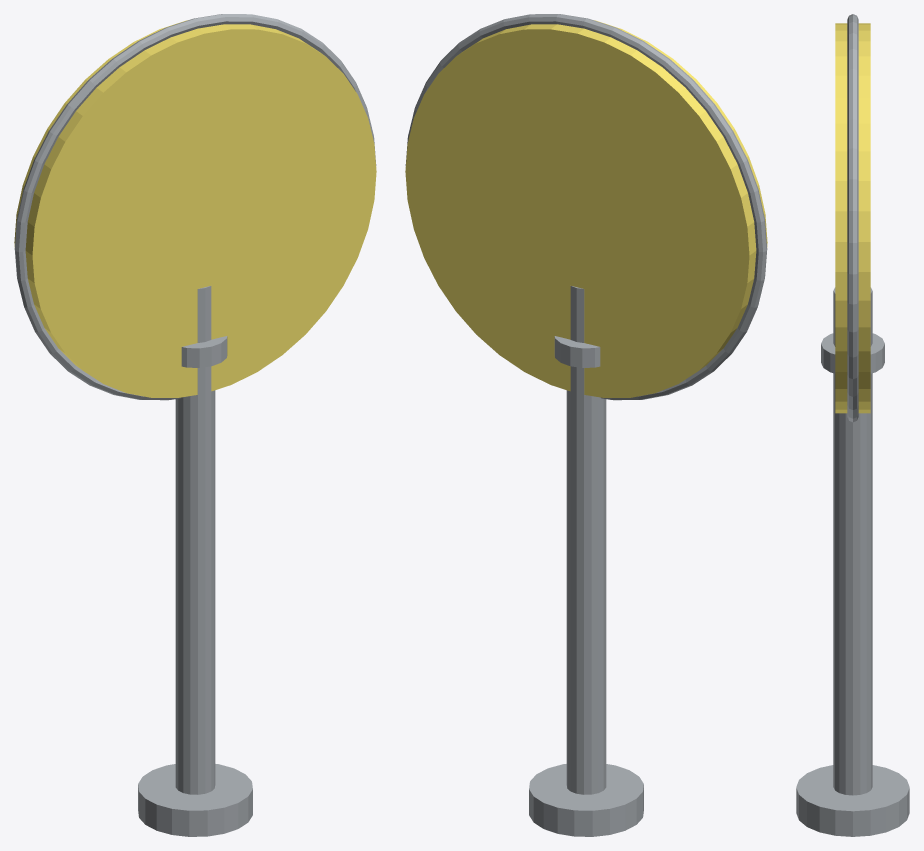
File: state-fair-pin-wifi-hotspot.glb
3 renders of one model, left to right at view 1: azimuth 30°, elevation 25°; view 2: azimuth 150°, elevation 25°; view 3: azimuth 270°, elevation 25°, orthographic.
Visible parts, largest first — view 1: SFPIN_SignDisc, SFPIN_Post, SFPIN_Rim, SFPIN_Base, SFPIN_Collar; view 2: SFPIN_SignDisc, SFPIN_Post, SFPIN_Rim, SFPIN_Base, SFPIN_Collar; view 3: SFPIN_Post, SFPIN_SignDisc, SFPIN_Base, SFPIN_Rim, SFPIN_Collar.
Boxes of the visible parts, bbox=[...] form: SFPIN_SignDisc: bbox=[14, 20, 376, 397]; SFPIN_Post: bbox=[175, 286, 215, 794]; SFPIN_Rim: bbox=[14, 14, 376, 400]; SFPIN_Base: bbox=[138, 764, 252, 836]; SFPIN_Collar: bbox=[181, 336, 227, 367]; SFPIN_SignDisc: bbox=[405, 20, 767, 397]; SFPIN_Post: bbox=[566, 286, 606, 794]; SFPIN_Rim: bbox=[405, 14, 767, 400]; SFPIN_Base: bbox=[529, 764, 643, 836]; SFPIN_Collar: bbox=[554, 336, 600, 367]; SFPIN_Post: bbox=[833, 287, 872, 795]; SFPIN_SignDisc: bbox=[835, 23, 870, 413]; SFPIN_Base: bbox=[796, 765, 909, 836]; SFPIN_Rim: bbox=[847, 14, 858, 422]; SFPIN_Collar: bbox=[821, 333, 884, 373].
Bounding box in the file's own units: 1.15 × 2.43 × 0.32.
